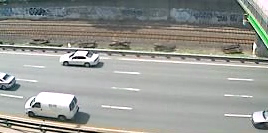car: (22, 90, 81, 123), (58, 48, 101, 69), (1, 71, 19, 92)
